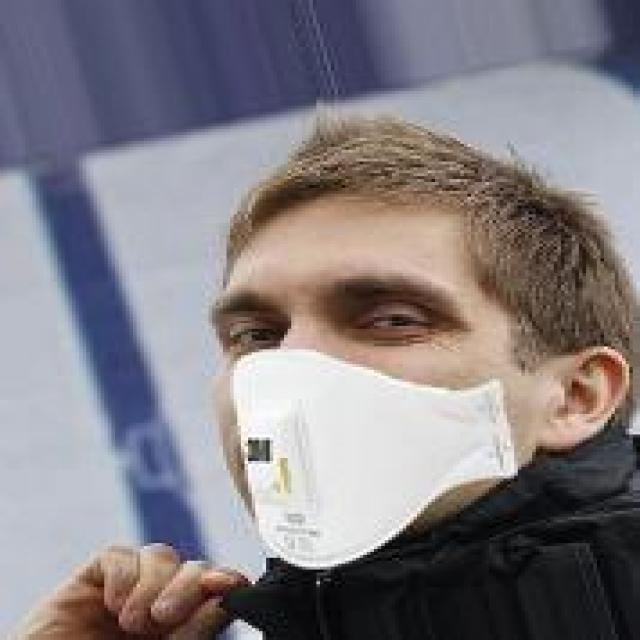mask: (183, 147, 640, 575)
